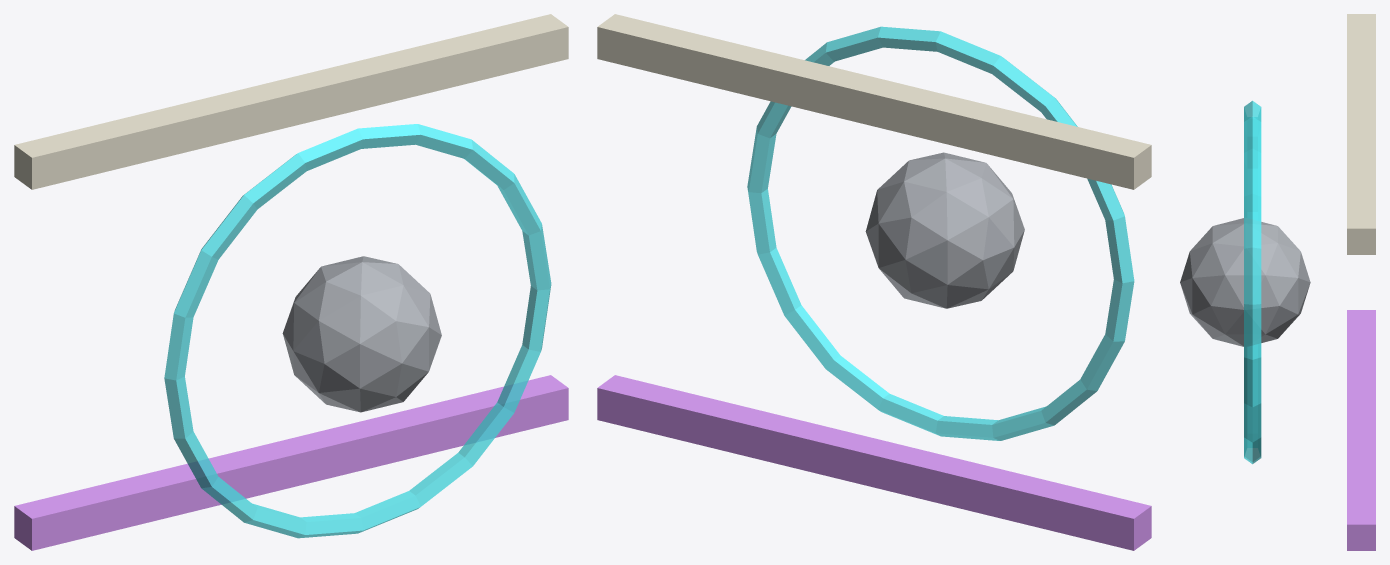
Rendered from 03_material_polish_overlay_3.glb.
3 renders of one model, left to right at view 1: azimuth 30°, elevation 25°; view 2: azimuth 150°, elevation 25°; view 3: azimuth 270°, elevation 25°, orthographic. The views are drawn at different scales.
Visible parts, largest first — view 1: polished_trim_bar_b, polished_trim_bar_a, material_preview_ring, reflective_sample_core; view 2: polished_trim_bar_a, polished_trim_bar_b, material_preview_ring, reflective_sample_core; view 3: reflective_sample_core, polished_trim_bar_a, polished_trim_bar_b, material_preview_ring.
Boxes of the visible parts, bbox=[...] form: polished_trim_bar_b: bbox=[14, 14, 568, 189]; polished_trim_bar_a: bbox=[14, 375, 568, 550]; material_preview_ring: bbox=[164, 124, 551, 538]; reflective_sample_core: bbox=[282, 256, 441, 412]; polished_trim_bar_a: bbox=[597, 375, 1151, 550]; polished_trim_bar_b: bbox=[597, 14, 1151, 189]; material_preview_ring: bbox=[747, 26, 1134, 440]; reflective_sample_core: bbox=[865, 152, 1024, 308]; reflective_sample_core: bbox=[1180, 218, 1310, 346]; polished_trim_bar_a: bbox=[1347, 310, 1375, 550]; polished_trim_bar_b: bbox=[1347, 14, 1375, 254]; material_preview_ring: bbox=[1244, 100, 1261, 464].
Bounding box in the file's own units: 1.4 × 1.01 × 0.54.
